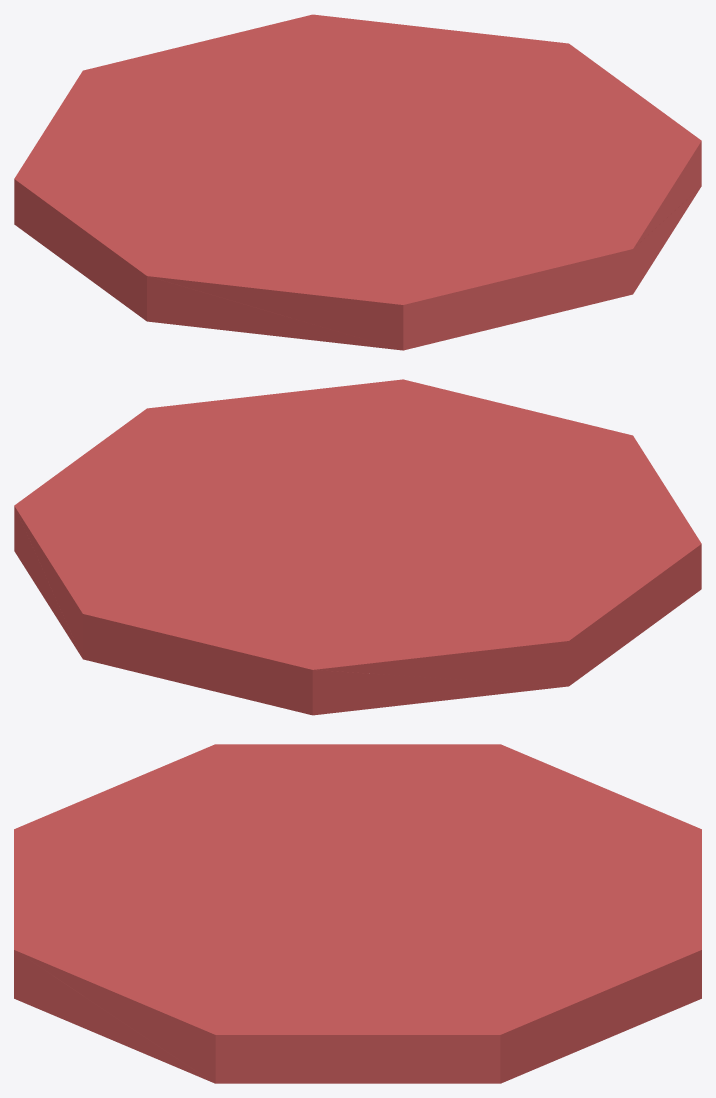
File: objcol_kb2_stage.glb
3 renders of one model, top to bottom at view 1: azimuth 30°, elevation 25°; view 2: azimuth 150°, elevation 25°; view 3: azimuth 270°, elevation 25°, orthographic. The views are drawn at different scales.
Parts seen in each view (by area): view 1: kb2_stage_col; view 2: kb2_stage_col; view 3: kb2_stage_col.
Boxes of the visible parts, <box> form: kb2_stage_col: <box>14,14,701,350</box>; kb2_stage_col: <box>14,379,701,715</box>; kb2_stage_col: <box>14,744,701,1083</box>.
Size of the model in its own units: 5.54 by 1.5 by 5.54.
